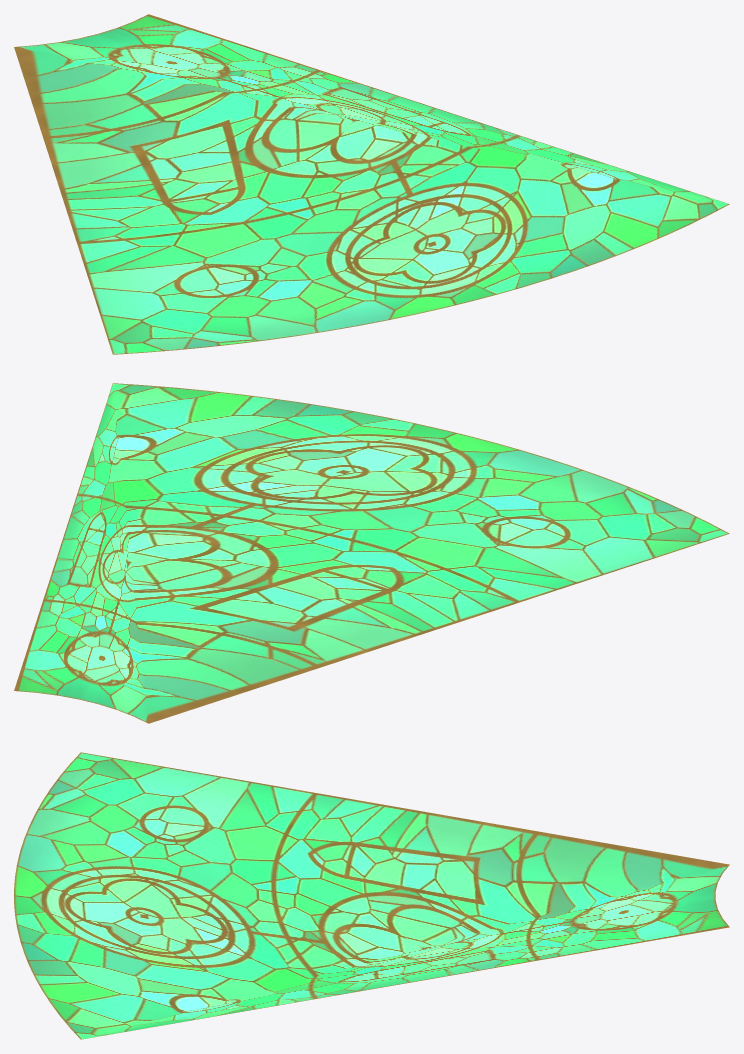
File: lb_wedgelit_3.glb
3 renders of one model, top to bottom at view 1: azimuth 30°, elevation 25°; view 2: azimuth 150°, elevation 25°; view 3: azimuth 270°, elevation 25°, orthographic. The views are drawn at different scales.
Parts seen in each view (by area): view 1: lb_wedgelit_3; view 2: lb_wedgelit_3; view 3: lb_wedgelit_3.
Part boxes in pixels (bbox=[...]): lb_wedgelit_3: bbox=[14, 14, 729, 354]; lb_wedgelit_3: bbox=[14, 383, 729, 723]; lb_wedgelit_3: bbox=[14, 752, 729, 1039].
Bounding box in the file's own units: 11.32 × 0 × 11.92.
Materials: 1 (1 with a texture image).
